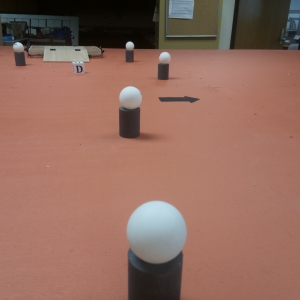obstacle: (127, 197, 193, 300), (118, 85, 141, 139), (156, 52, 171, 81), (13, 41, 25, 66), (124, 43, 135, 62)
side: (87, 44, 108, 59), (25, 43, 41, 58)
slope: (44, 50, 90, 62)
